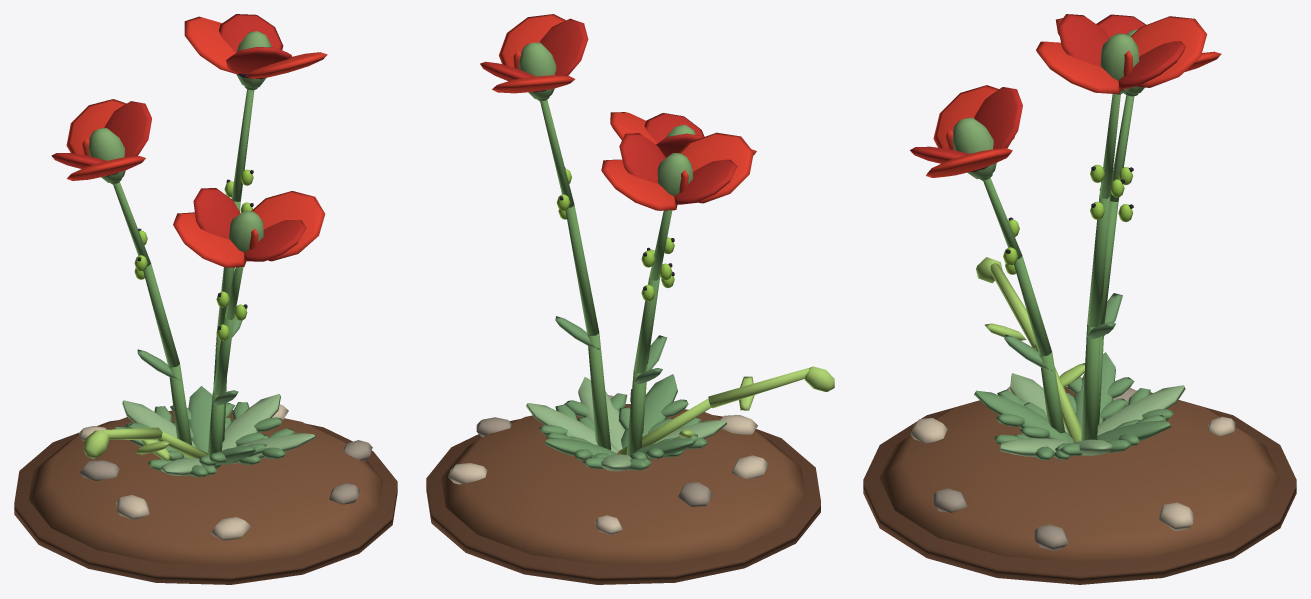
File: poppy.glb
3 renders of one model, left to right at view 1: azimuth 30°, elevation 25°; view 2: azimuth 150°, elevation 25°; view 3: azimuth 270°, elevation 25°, orthographic. The views are drawn at different scales.
Visible parts, largest first — view 1: PP_mound_soil, PP_mound_rim, PP_bloom_3, PP_bloom_1, PP_bloom_2, PP_mound, PP_stalk_2, PP_stalk_3, PP_stalk_1, PP_shoot, PP_leaf_1, PP_leaf_2 (+8 smaller); view 2: PP_mound_soil, PP_mound_rim, PP_bloom_2, PP_bloom_1, PP_stalk_1, PP_mound, PP_stalk_2, PP_shoot, PP_bloom_3, PP_leaf_6, PP_bud_1_body, PP_leaf_1 (+6 smaller); view 3: PP_mound_soil, PP_mound_rim, PP_bloom_1, PP_bloom_3, PP_stalk_1, PP_mound, PP_stalk_3, PP_shoot, PP_stalk_2, PP_leaf_3, PP_bud_3_body, PP_leaf_6 (+7 smaller).
Part boxes in pixels (bbox=[...]): PP_mound_soil: bbox=[28, 410, 383, 564]; PP_mound_rim: bbox=[14, 420, 397, 584]; PP_bloom_3: bbox=[173, 188, 325, 267]; PP_bloom_1: bbox=[184, 14, 327, 78]; PP_bloom_2: bbox=[51, 99, 151, 180]; PP_mound: bbox=[79, 404, 372, 540]; PP_stalk_2: bbox=[113, 182, 192, 445]; PP_stalk_3: bbox=[207, 267, 243, 468]; PP_stalk_1: bbox=[213, 89, 254, 442]; PP_shoot: bbox=[101, 427, 207, 460]; PP_leaf_1: bbox=[222, 394, 280, 450]; PP_leaf_2: bbox=[188, 386, 212, 452]; PP_mound_soil: bbox=[441, 404, 805, 564]; PP_mound_rim: bbox=[426, 415, 820, 584]; PP_bloom_2: bbox=[601, 132, 753, 210]; PP_bloom_1: bbox=[480, 14, 588, 93]; PP_stalk_1: bbox=[540, 100, 611, 449]; PP_mound: bbox=[448, 395, 768, 534]; PP_stalk_2: bbox=[626, 210, 672, 455]; PP_shoot: bbox=[620, 368, 808, 454]; PP_bloom_3: bbox=[610, 112, 756, 157]; PP_leaf_6: bbox=[621, 374, 677, 448]; PP_bud_1_body: bbox=[519, 42, 556, 99]; PP_leaf_1: bbox=[526, 403, 618, 453]; PP_mound_soil: bbox=[879, 387, 1280, 562]; PP_mound_rim: bbox=[863, 400, 1296, 584]; PP_bloom_1: bbox=[1036, 14, 1207, 93]; PP_bloom_3: bbox=[910, 85, 1022, 177]; PP_stalk_1: bbox=[1081, 94, 1120, 440]; PP_mound: bbox=[910, 386, 1235, 550]; PP_stalk_3: bbox=[983, 177, 1065, 433]; PP_shoot: bbox=[984, 263, 1085, 442]; PP_stalk_2: bbox=[1097, 95, 1134, 425]; PP_leaf_3: bbox=[1097, 385, 1185, 435]; PP_bud_3_body: bbox=[952, 117, 996, 179]; PP_leaf_6: bbox=[974, 390, 1073, 442].
Size of the model in its own units: 0.6372 by 0.8612 by 0.6372.
